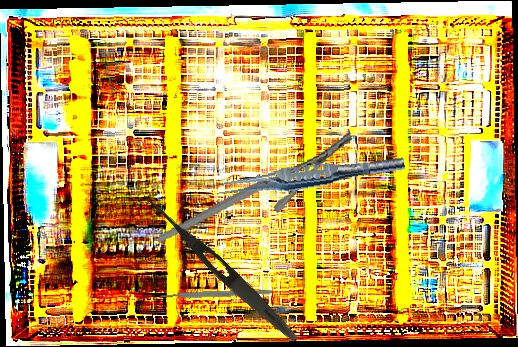Dressing Forceps: (135, 188, 303, 347)
Needle Holder: (145, 130, 364, 244)
Scalpel Handle: (159, 289, 273, 299)
Tissue Forceps: (214, 148, 406, 204)
